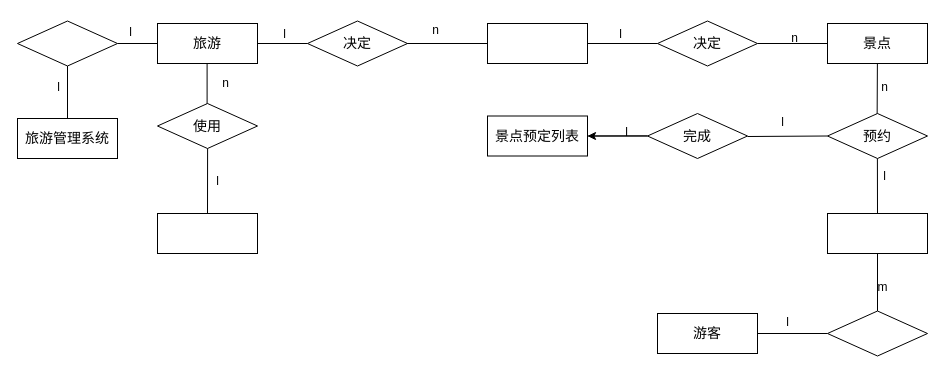
The diagram is 945 pixels wide and 373 high, and some of its shapes have lost their labels. Here are the shapes that lost their labels. From the top down, the centre of each, then its label:
pixel 67 43: 对接
pixel 537 43: 酒店
pixel 207 233: 平台
pixel 877 233: 旅游路线
pixel 877 333: 设置
